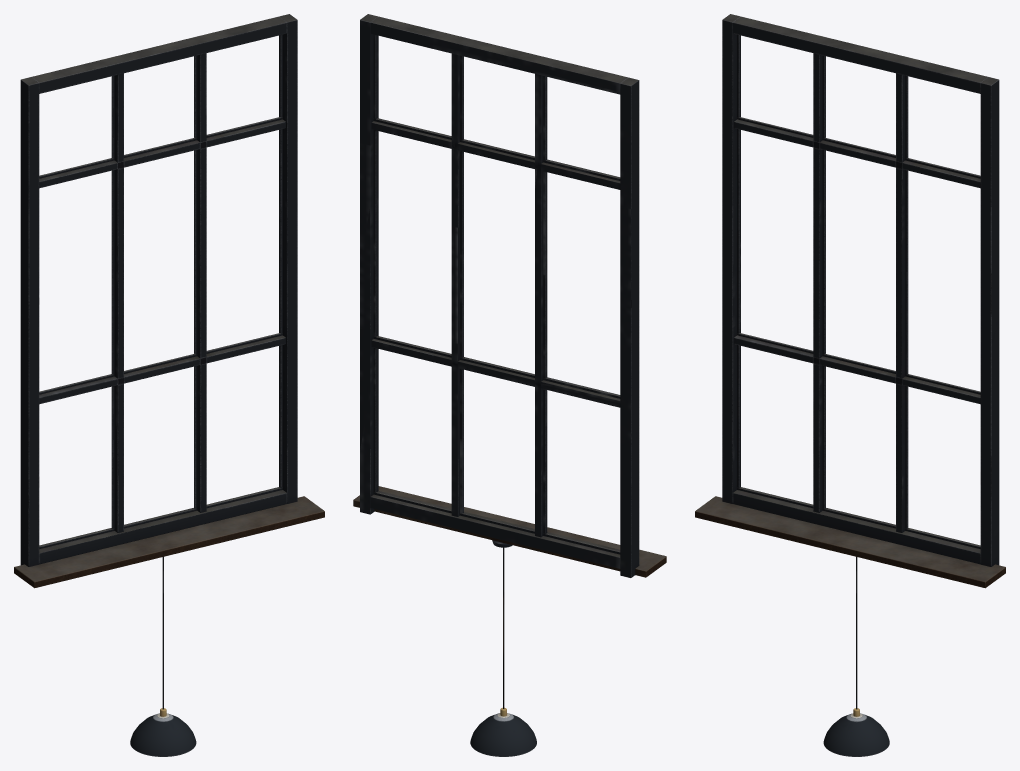
3 views of the same model, side by side, from view 1: azimuth 30°, elevation 25°; view 2: azimuth 150°, elevation 25°; view 3: azimuth 330°, elevation 25° (orthographic).
Parts seen in each view (by area): view 1: window_frame, pendant_lamp; view 2: window_frame, pendant_lamp; view 3: window_frame, pendant_lamp.
Boxes of the visible parts, x1,y1,x2,y2 form: window_frame: (14, 14, 324, 588); pendant_lamp: (130, 557, 196, 756); window_frame: (353, 14, 666, 577); pendant_lamp: (470, 540, 536, 756); window_frame: (695, 14, 1005, 588); pendant_lamp: (823, 557, 889, 756).
Size of the model in its own units: 1.62 by 3.68 by 0.3199.
2 materials, 1 textured.
